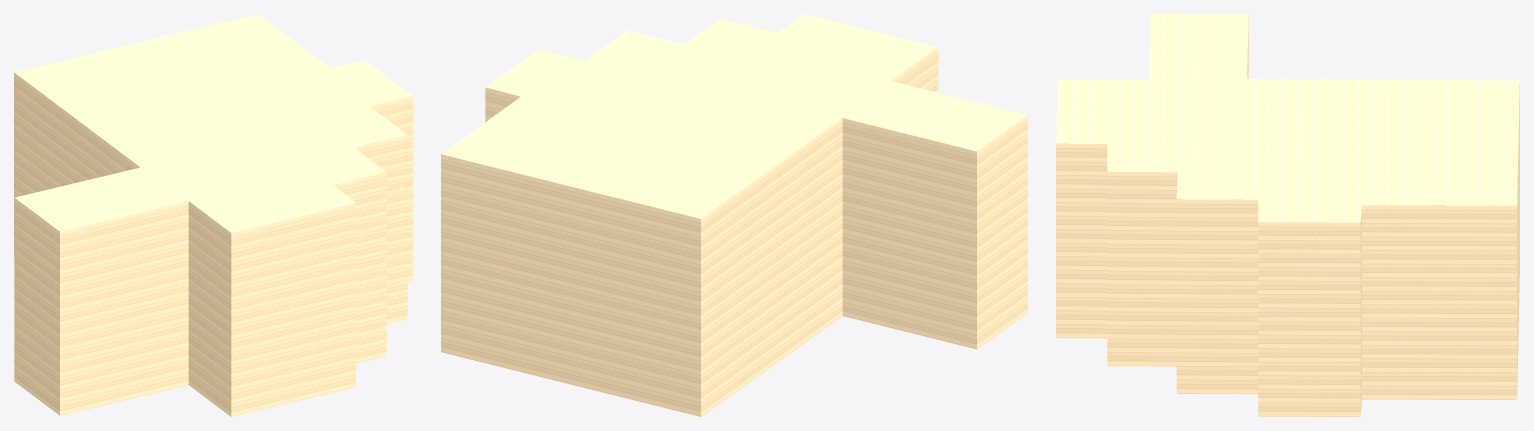
The model's file is landmark-shirvanshah-palace.glb.
3 views of the same model, side by side, from view 1: azimuth 30°, elevation 25°; view 2: azimuth 150°, elevation 25°; view 3: azimuth 270°, elevation 25° (orthographic). The views are drawn at different scales.
Visible parts, largest first — view 1: shirvanshah-palace; view 2: shirvanshah-palace; view 3: shirvanshah-palace.
Part boxes in pixels (x1,y1,x2,y2): shirvanshah-palace: (14, 14, 412, 416); shirvanshah-palace: (441, 14, 1027, 416); shirvanshah-palace: (1056, 14, 1519, 416).
Size of the model in its own units: 39.69 by 17.24 by 37.29.
Materials: 1 (1 with a texture image).
